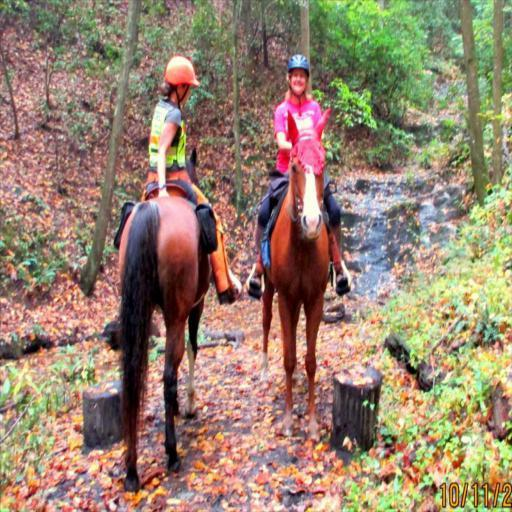Horse: (119, 147, 211, 495), (261, 110, 332, 443)
